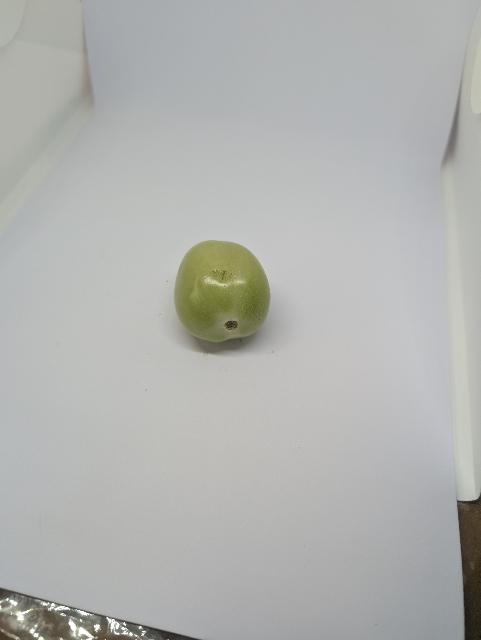green: (163, 230, 282, 358)
